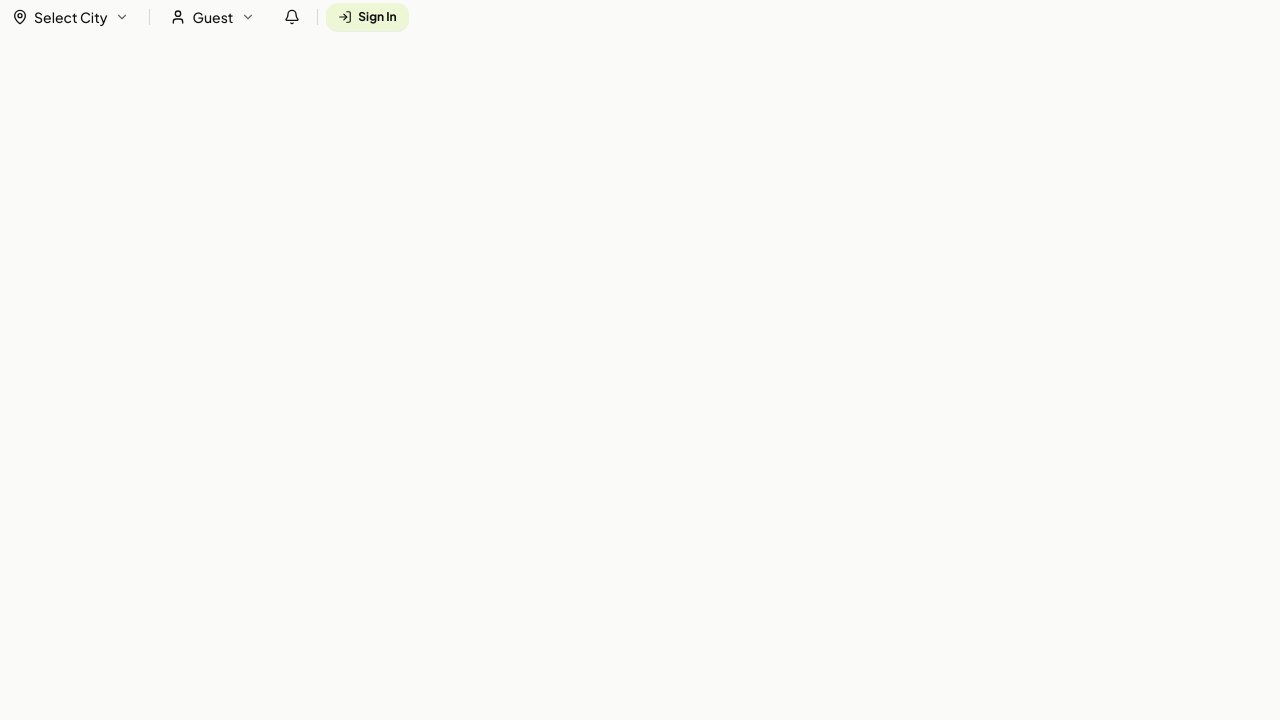
it: Comprehensive E2E Critical Workflows Audit › opens location selector modal from header and switches city cleanly
The width and height of the screenshot is (1280, 720).
expect the text "Select City" is shown: met, box [34, 7, 108, 27]
Open Location Modal
Click the button with aria-label "Select Indian location" at (71, 17), box [0, 1, 142, 33]
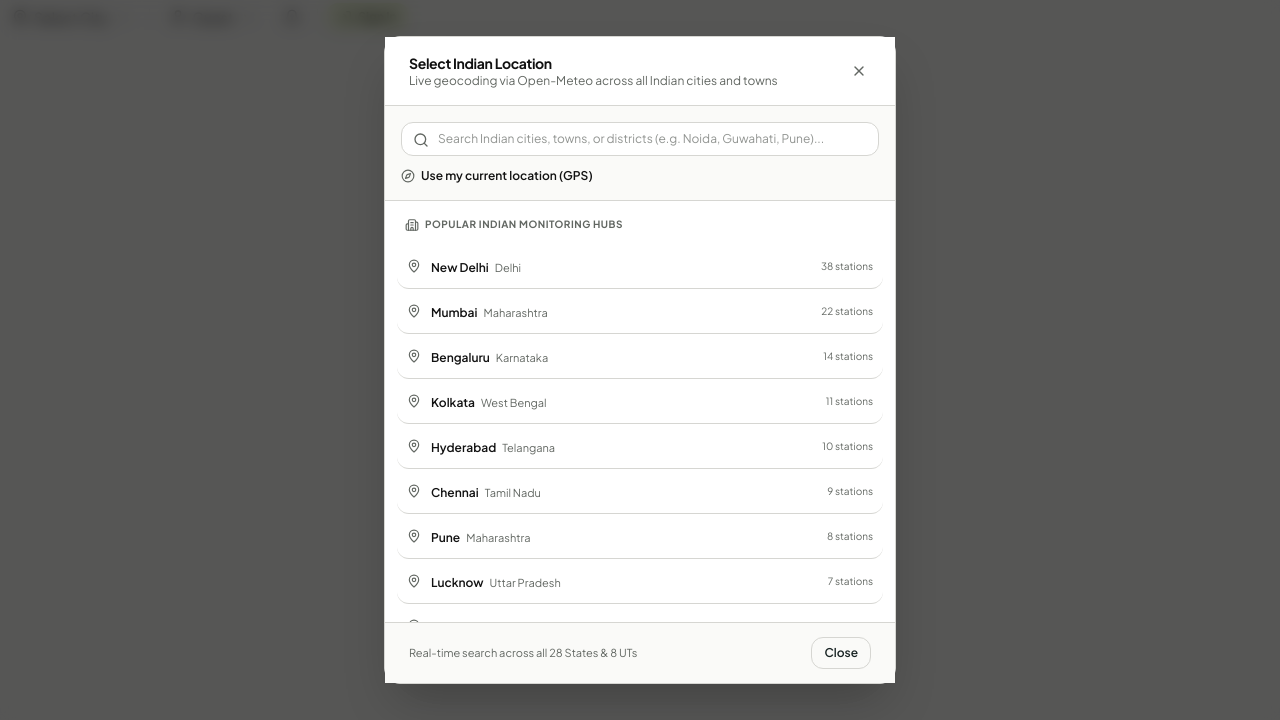
expect the dialog is shown: met, box [384, 36, 896, 684]
expect the heading "Select Indian Location" is shown: met, box [409, 54, 552, 72]
Click "Mumbai" popular shortcut
Click the button "Mumbai" at (454, 312), box [397, 289, 883, 334]
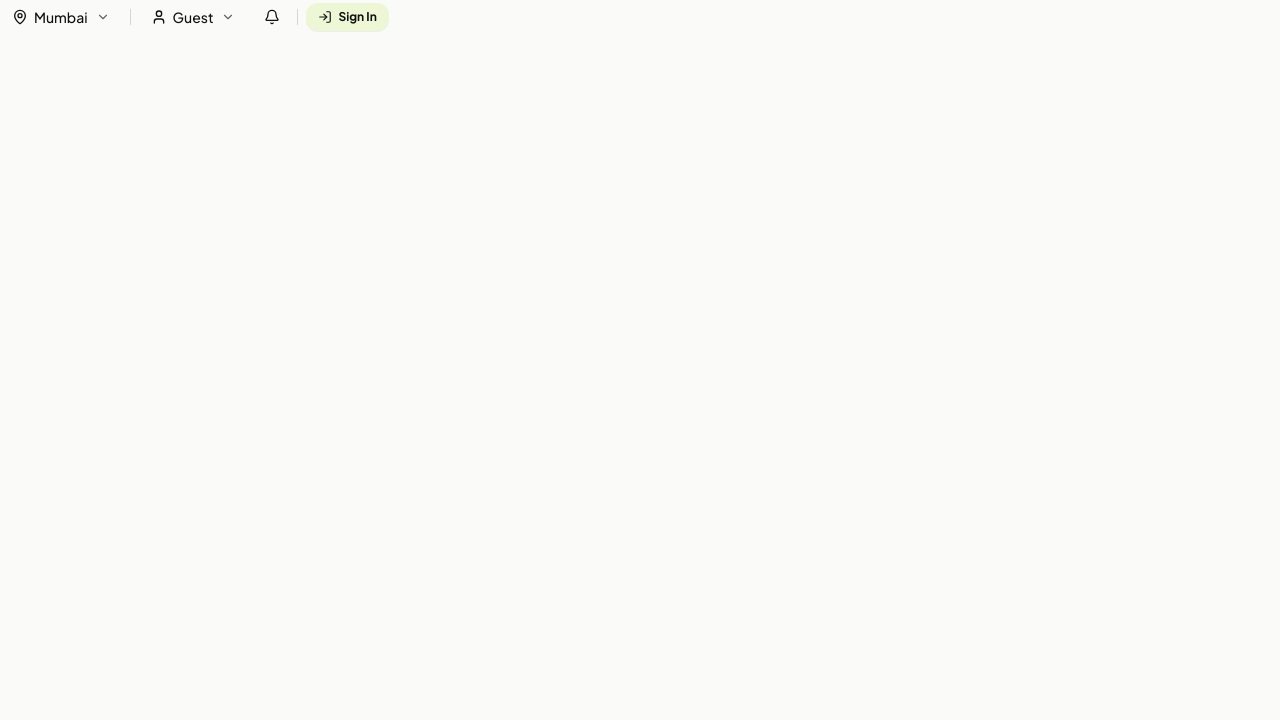
expect the dialog is gone: met
expect the text "Mumbai" is shown: met, box [34, 7, 88, 27]
